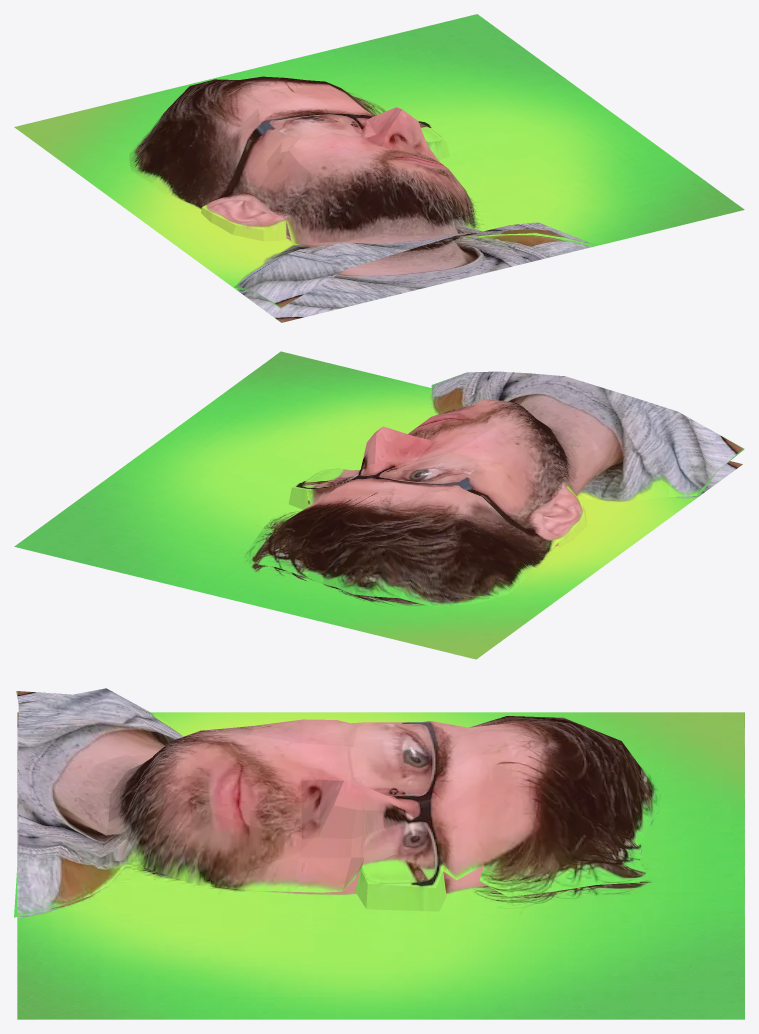
Rendered from avatar.gltf.
3 views of the same model, one above another, from view 1: azimuth 30°, elevation 25°; view 2: azimuth 150°, elevation 25°; view 3: azimuth 270°, elevation 25° (orthographic). The views are drawn at different scales.
Parts seen in each view (by area): view 1: face; view 2: face; view 3: face.
Boxes of the visible parts, box(x1,y1,x2,y2) form: face: box(14, 14, 744, 322); face: box(14, 351, 744, 659); face: box(14, 688, 744, 1019).
Size of the model in its own units: 5.02 by 0.7595 by 5.02.
Materials: 1 (1 with a texture image).
